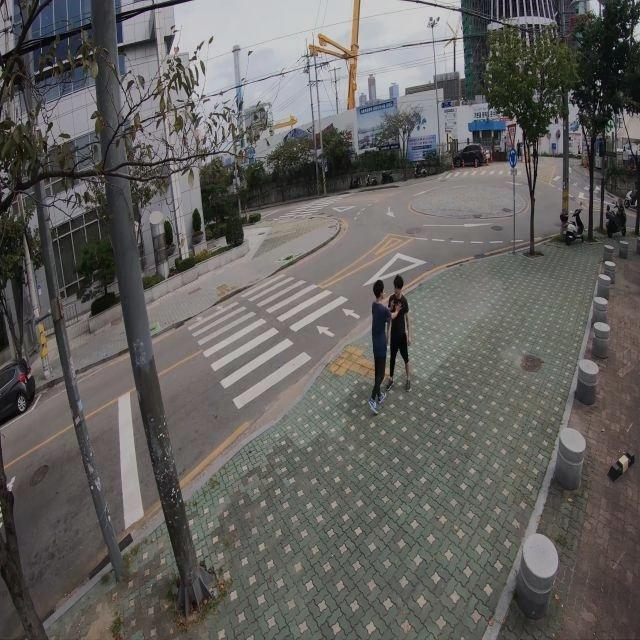fight: (367, 273, 413, 414)
